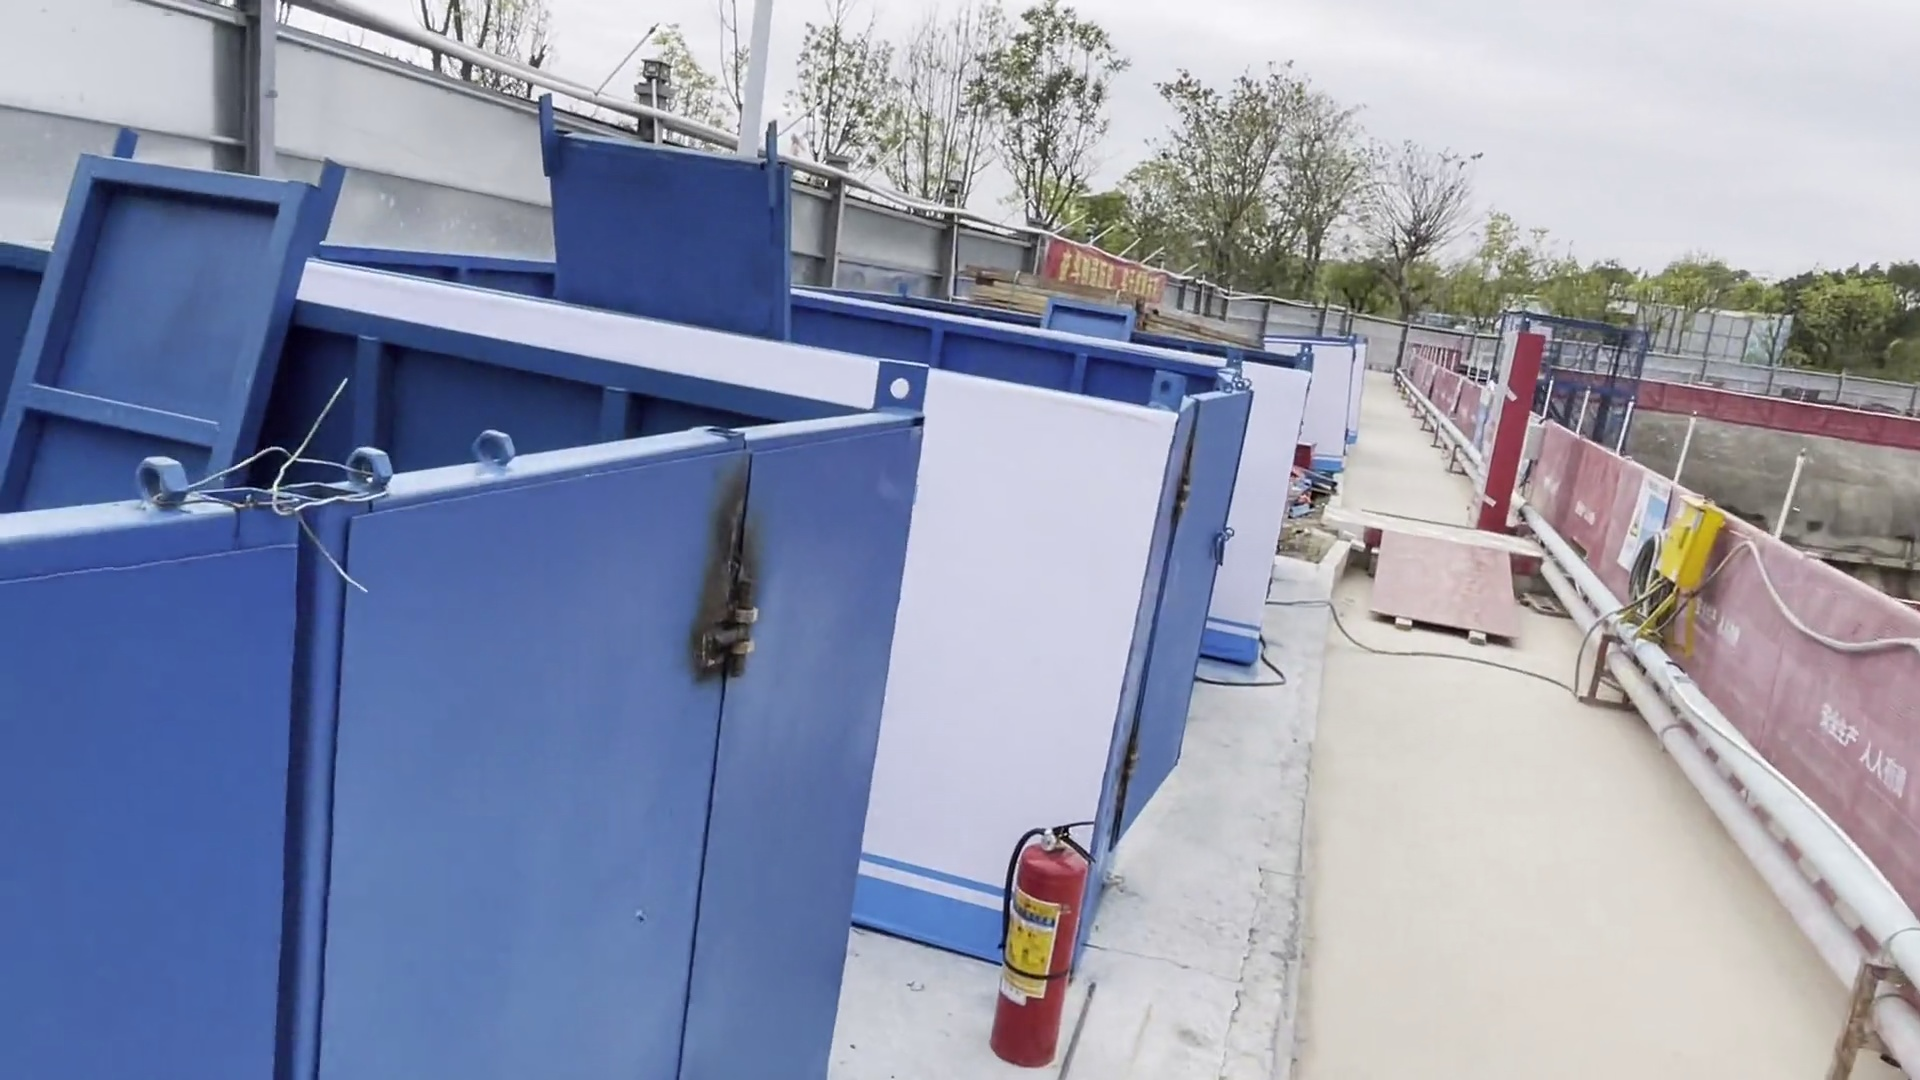board: (1360, 520, 1538, 671)
ebox: (1643, 484, 1725, 649)
fence: (1733, 543, 1920, 869)
slogan: (1036, 235, 1191, 305)
